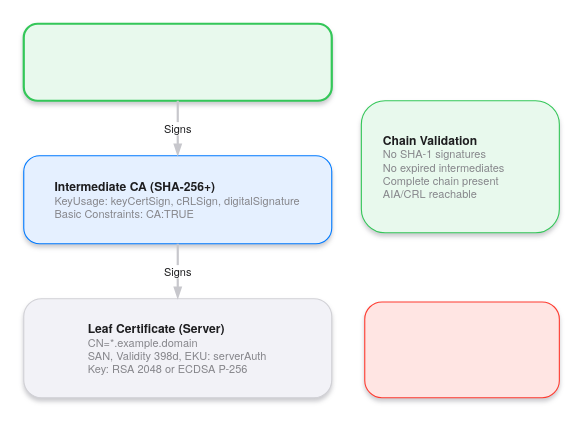
The diagram is 584 pixels wide and 426 high, and some of its shapes have lost their labels. The shapes that lost their labels are listed below. From the top down, each one's centre as x and y in pixels, then its label:
At point (177, 63): "Root CA Globally trusted root KeyUsage: keyCertSign, cRLSign".
At point (461, 350): "Legacy chains may include SHA-1 intermediates <> G2 cert lint catches this".
